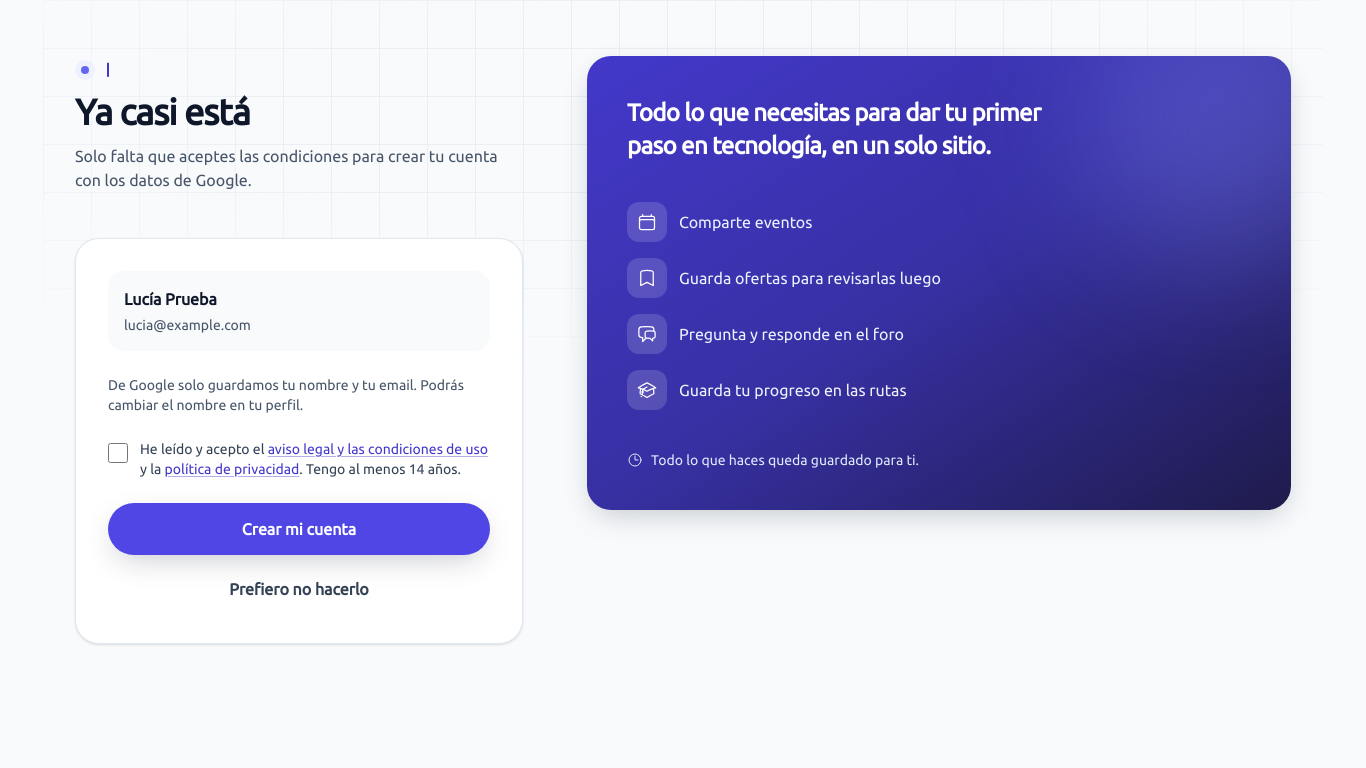
Scenario: GoogleReturnPage › «Ya casi está»: no crea la cuenta hasta aceptar las condiciones
Later steps or results of the test are not shown.
Expected: the heading "Ya casi está" is shown, [75,91,250,132]
Expected: the text "Lucía Prueba" is shown, [124,290,217,308]
Click the button "Crear mi cuenta". click: (299, 529)
box: [108,503,490,555]
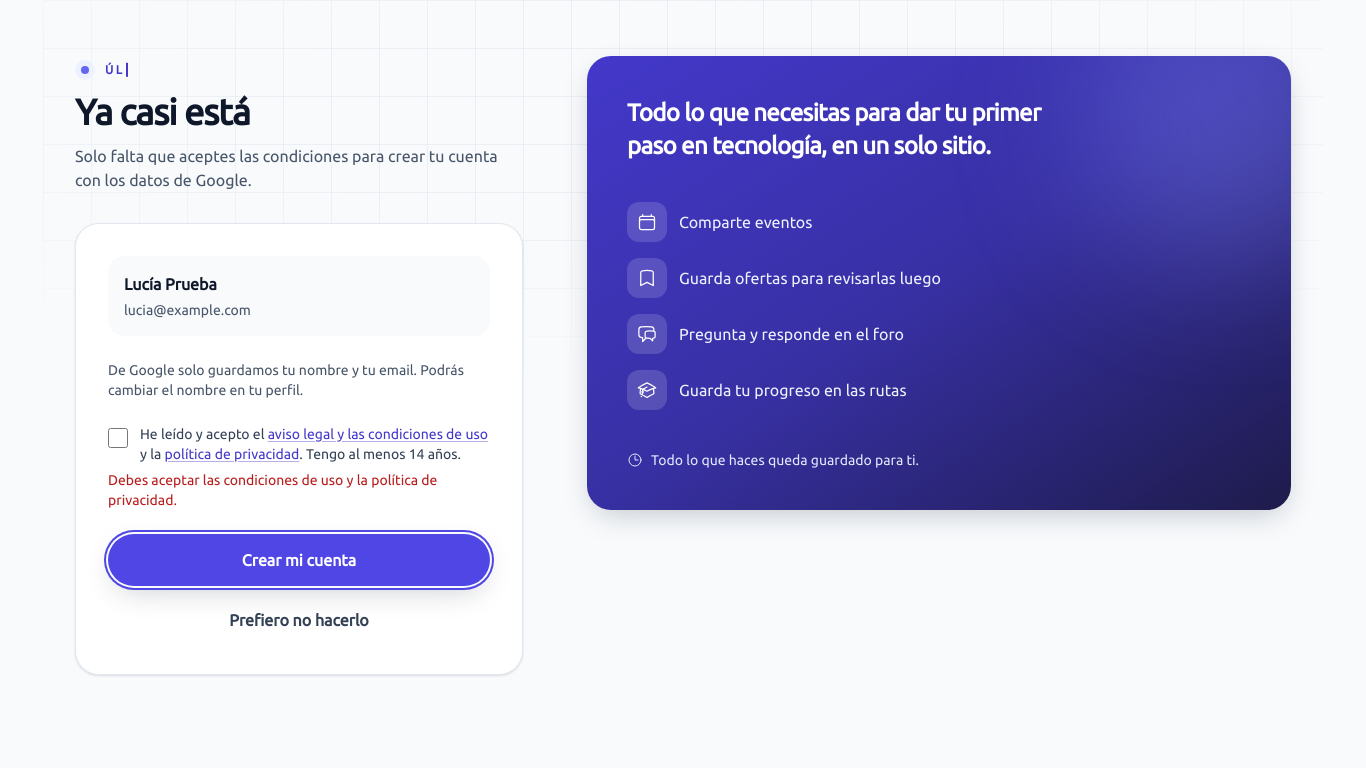
Expected: the message shows "condiciones", [108,472,437,508]
